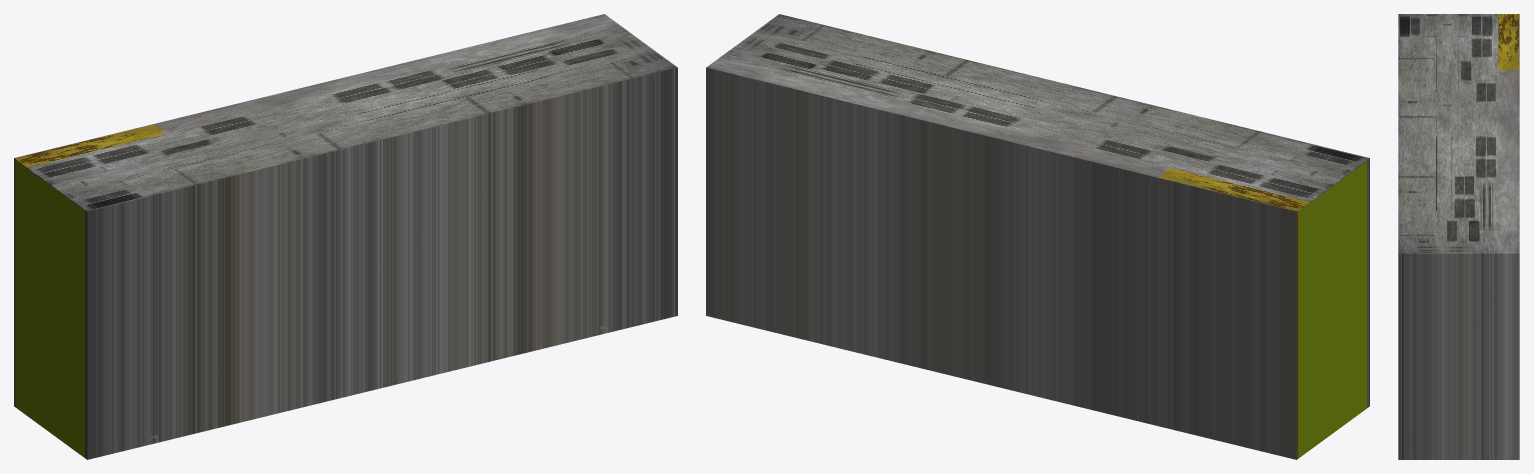
The model's file is hvac_duct_straight_short.DAE.
3 renders of one model, left to right at view 1: azimuth 30°, elevation 25°; view 2: azimuth 150°, elevation 25°; view 3: azimuth 270°, elevation 25°, orthographic. The views are drawn at different scales.
Visible parts, largest first — view 1: colbox-01, bounds; view 2: colbox-01, bounds; view 3: colbox-01.
Part boxes in pixels (<box>): colbox-01: <box>14,14,677,459</box>; bounds: <box>16,161,84,457</box>; colbox-01: <box>706,14,1369,459</box>; bounds: <box>1299,161,1367,457</box>; colbox-01: <box>1398,14,1519,459</box>.
Size of the model in its own units: 400 by 85.85 by 161.
